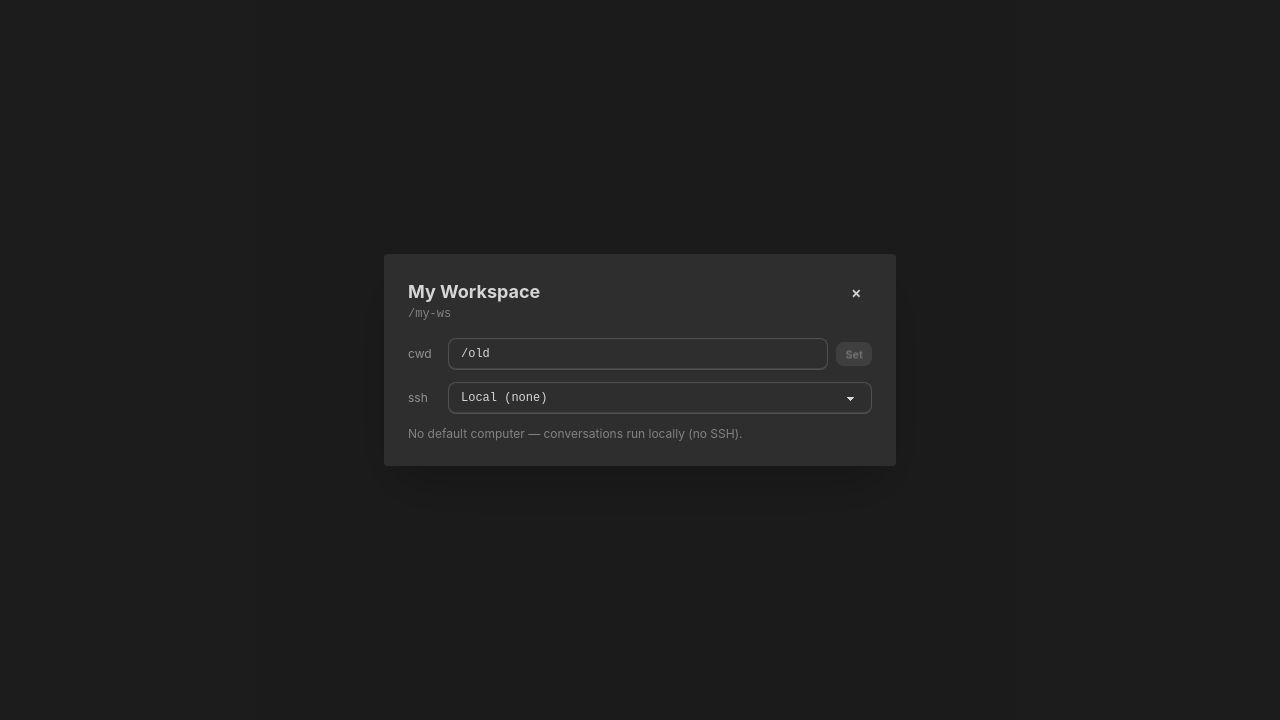
Test: WorkspaceDetails › a failed cwd save surfaces the error
This screenshot has width=1280, height=720.
Step 1. Type "!" into the field named "Default working directory" → (638, 354), box [448,338,828,370]
Then press Enter
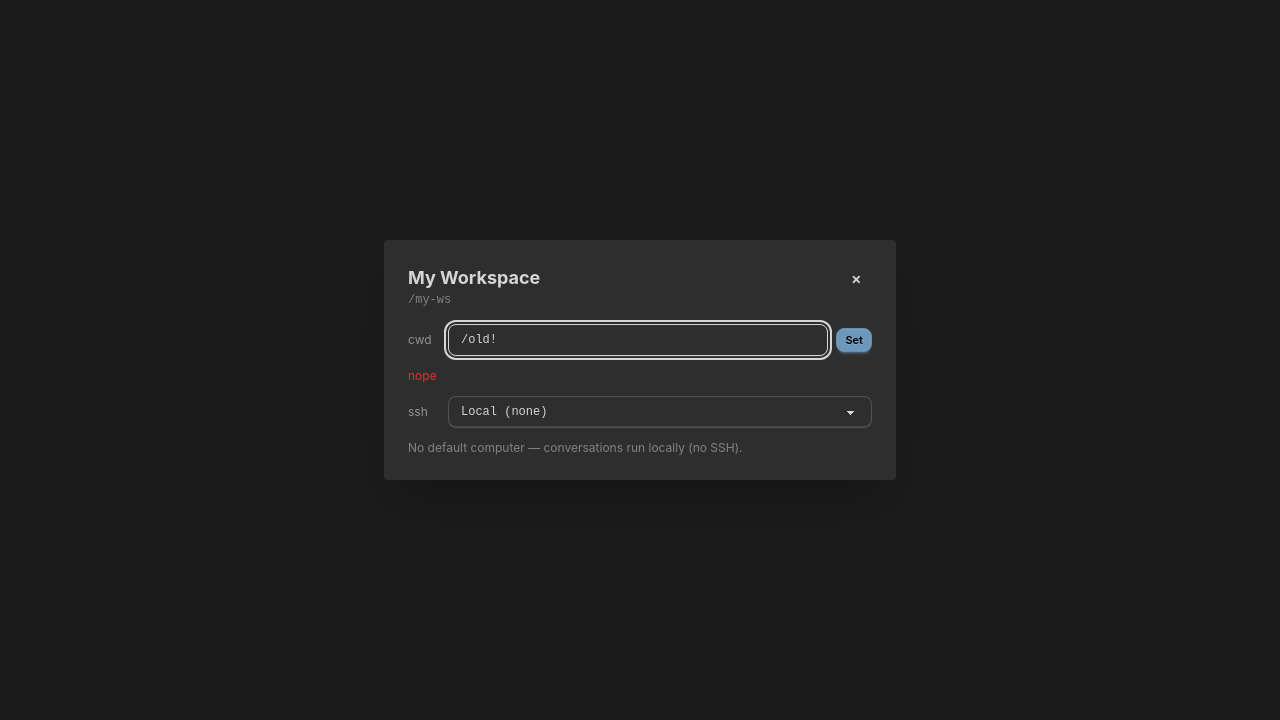
Check: the text "nope" is shown, box [408,368,437,383]
